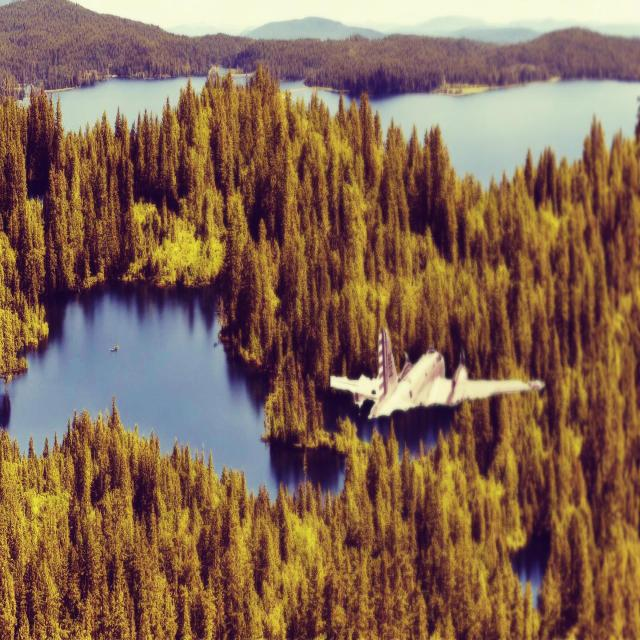airplane: (330, 325, 546, 420)
